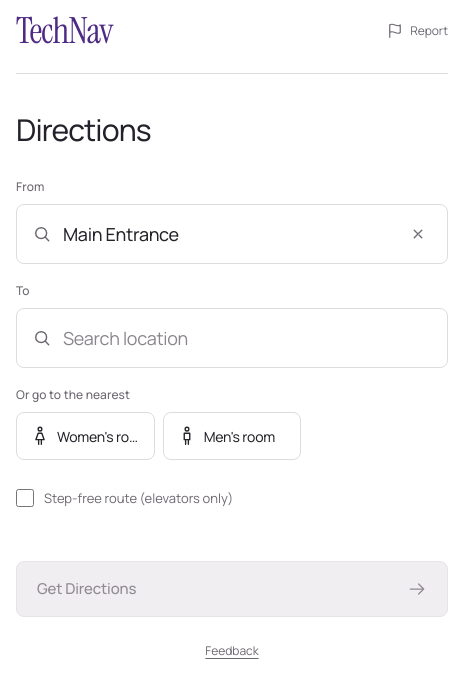
Scenario: route planning › explains unsupported locations and identical endpoints
This screenshot has width=465, height=676.
In the dropdown labelled "To": (232, 338) [16,308,448,368], type "F925"
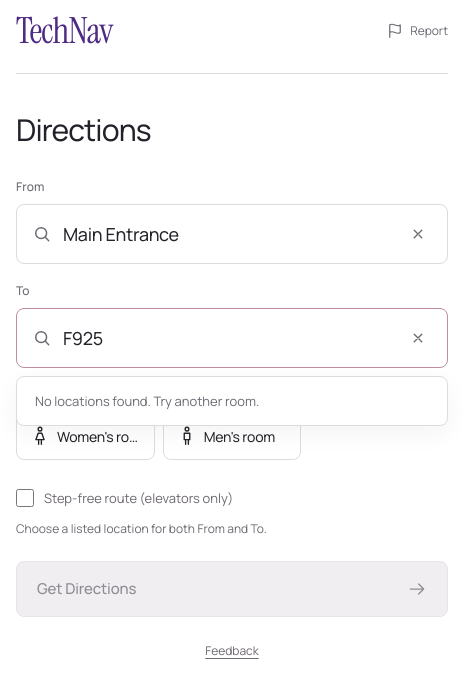
Expected: the button "Get Directions" is disabled, [16,561,448,617]
Now the text "Choose a listed location for both From and To." is shown, box [16,520,267,537]
Replace the text in the dropdown labelled "To" with "Main Entrance": (232, 338) [16,308,448,368]
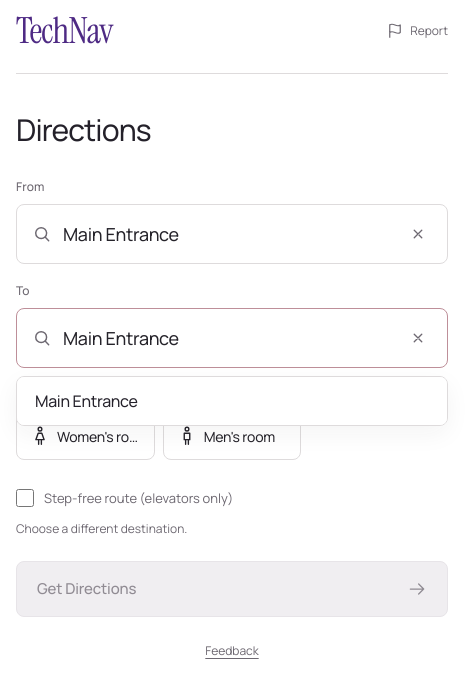
Now the text "Choose a different destination." is shown, box [16,520,187,537]
